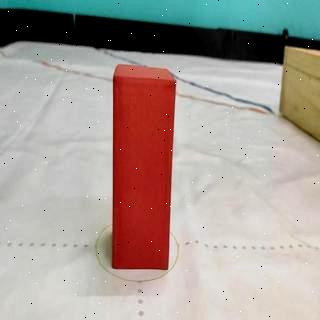redbox: (112, 64, 176, 272)
